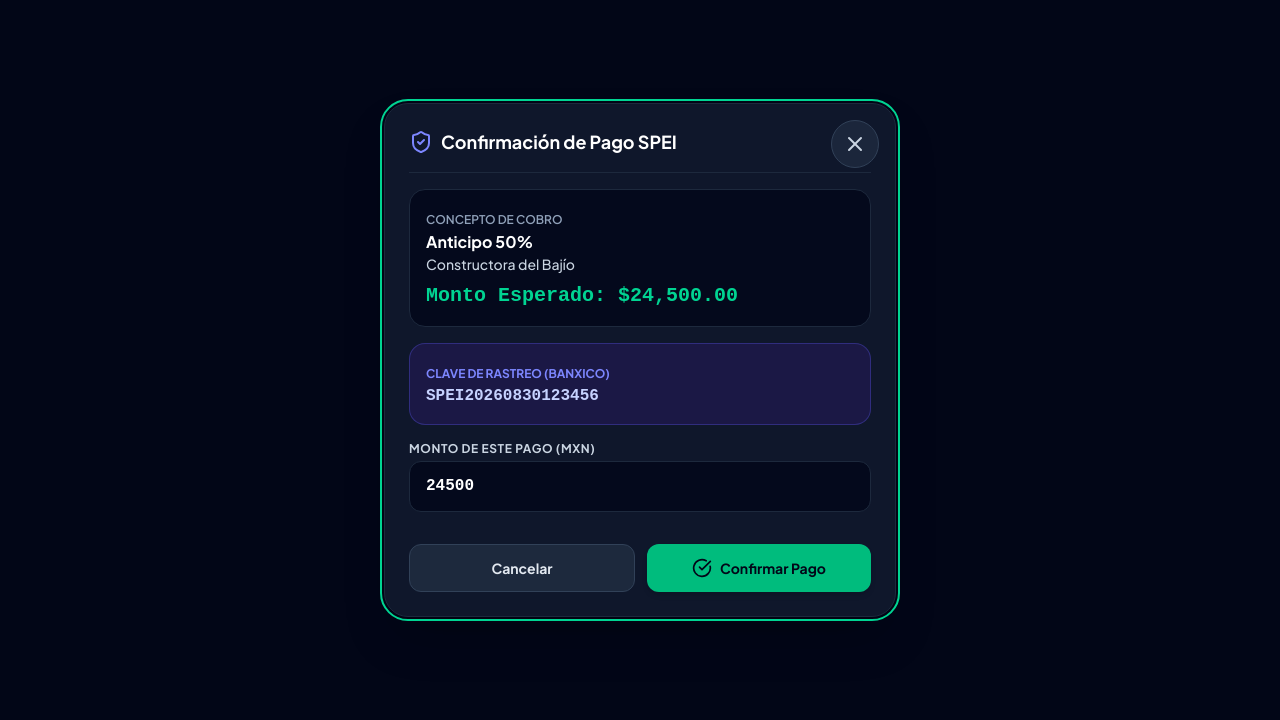
a rejected confirmation is never shown as one (#58/#86) › stays open with the reason when the server refuses
The image size is (1280, 720).
Click the button "Confirmar Pago" at (759, 568), box [647,544,871,592]
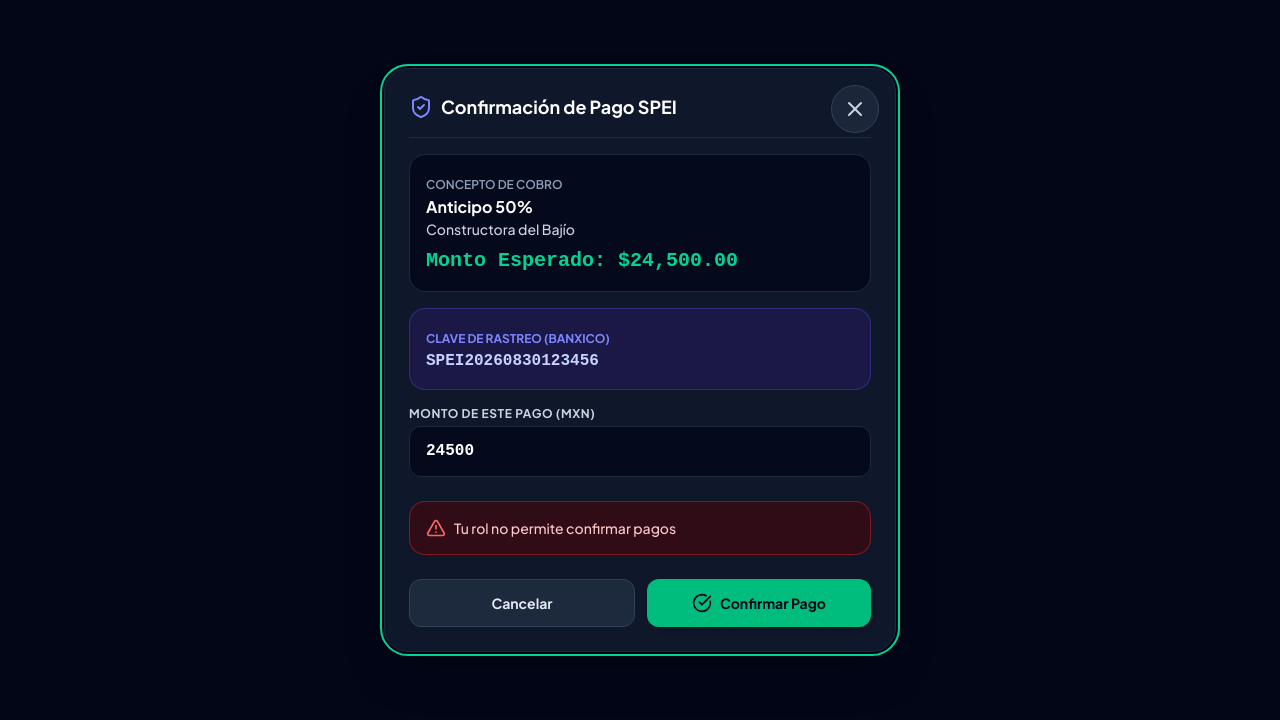
Expected: the button "Confirmar Pago" is shown, [647,579,871,627]
Result: the message reads "Tu rol no permite confirmar pagos" at [454,519,676,537]
